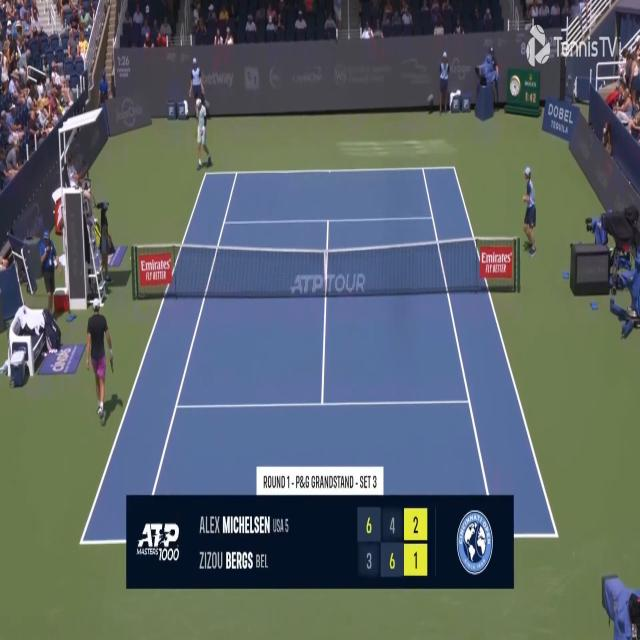tennis-player: (86, 294, 117, 428), (193, 95, 214, 175)
